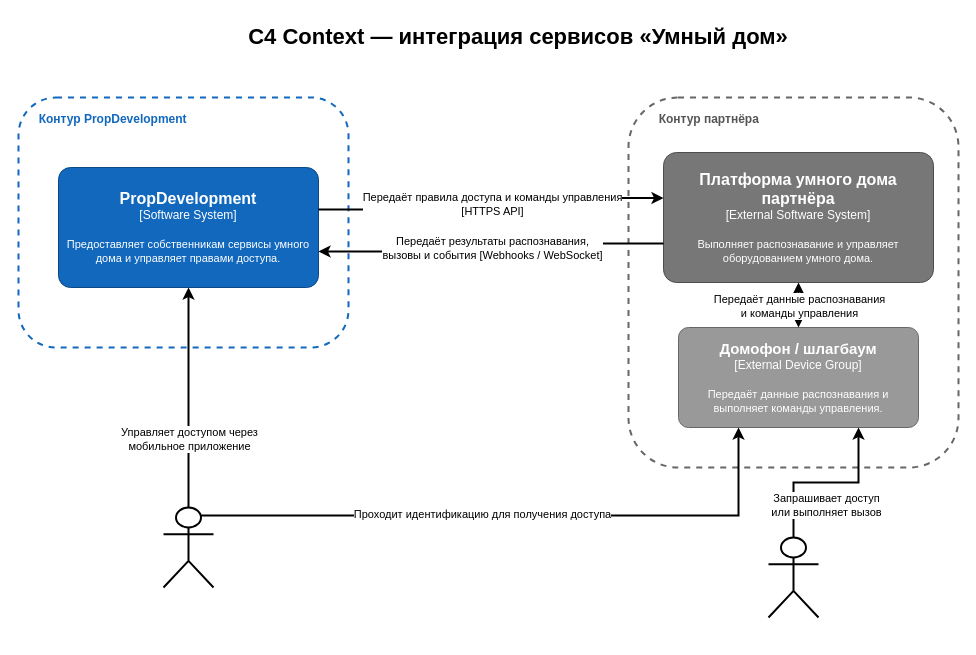
Image size: 976x655. Some labels were removed from this diagram. Here are the shapes that lost their labels. From the top down, the centre of each, then its label:
pixel 188 547: Собственник / жилец
pixel 793 577: Гость
